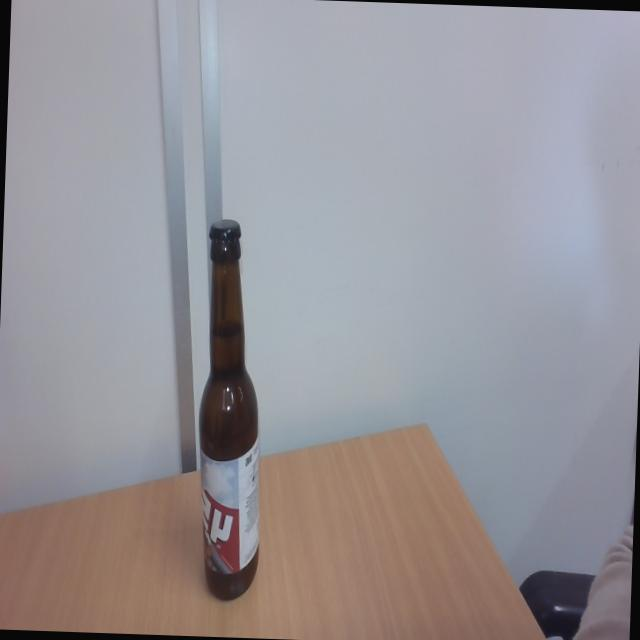Bottle: (192, 244, 270, 606)
Cap: (207, 214, 242, 244)
Label: (195, 448, 259, 574)
